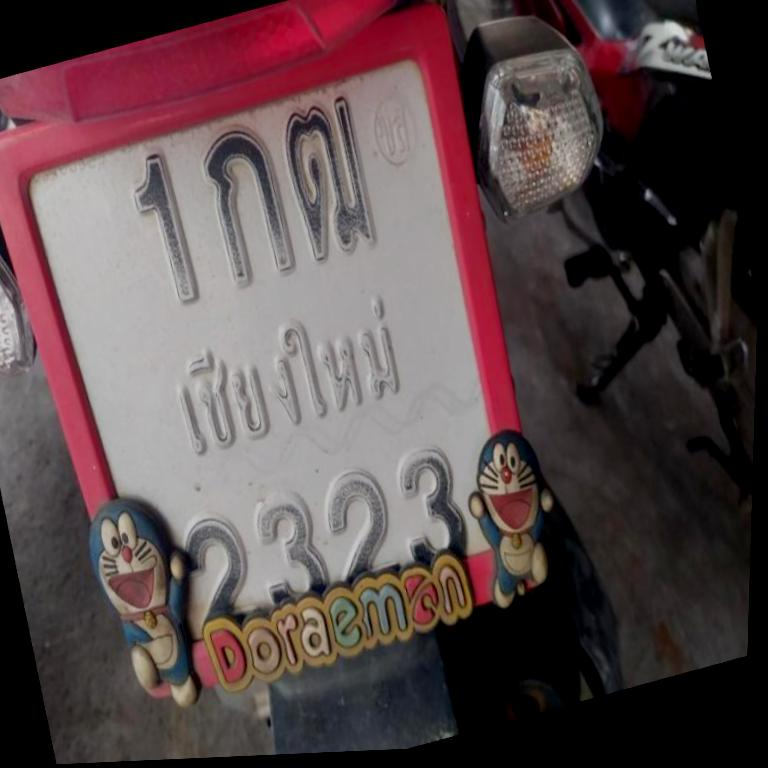license plate: (0, 0, 580, 728)
